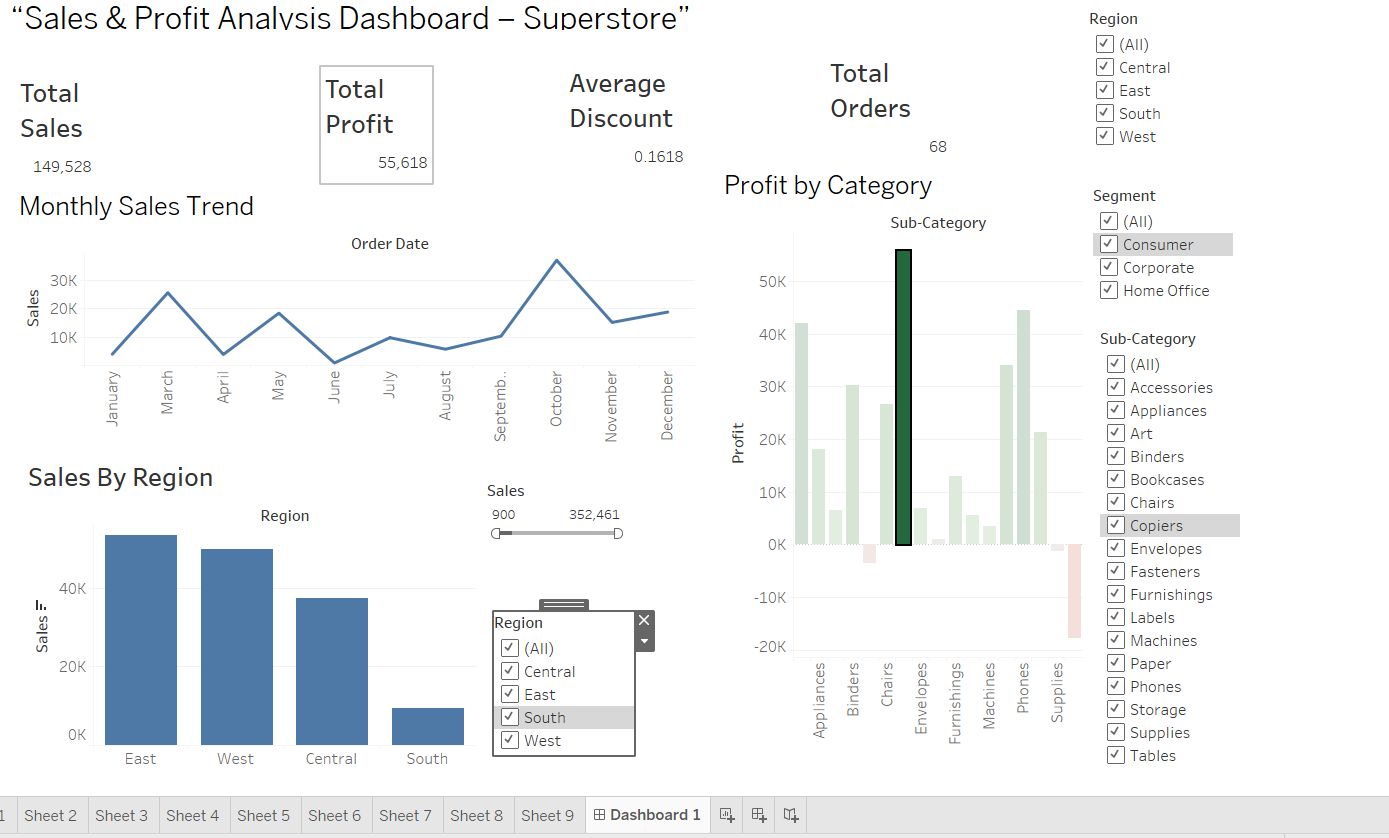

The dashboard page shown, as its layout file describes it:
{"tool":"tableau","page":{"name":"Dashboard 1","canvas":[1000,1000],"units":"permille","ordinal":0},"visuals":[{"type":"title","box":[5.5,10,989,39.9]},{"type":"filter","title":"Sheet 5","param":"[federated.04pyzly0xpd7ff17e41631brcbwb].[none:Region:nk]","box":[754.5,17.5,110.3,178.3]},{"type":"worksheet","title":"Sheet 3","mark":"Automatic","box":[573.1,71.1,86.9,179.6]},{"type":"worksheet","title":"Sheet 4","mark":"Automatic","box":[393.1,83.5,84.8,134.7]},{"type":"worksheet","title":"Sheet 2","mark":"Automatic","box":[224.8,91,76.5,144.6]},{"type":"worksheet","title":"Sheet 1","mark":"Automatic","box":[14.5,96,213.1,132.2]},{"type":"worksheet","title":"Sheet 6","mark":"Automatic","rows":["Profit"],"cols":["Sub-Category"],"box":[500,213.2,250.3,738.1]},{"type":"filter","title":"Sheet 7","param":"[federated.04pyzly0xpd7ff17e41631brcbwb].[none:Segment:nk]","box":[757.2,238.2,96.5,149.6]},{"type":"worksheet","title":"Sheet 7","mark":"Automatic","rows":["Sales"],"cols":["Order Date"],"box":[13.8,239.4,469,322.9]},{"type":"filter","title":"Sheet 6","param":"[federated.04pyzly0xpd7ff17e41631brcbwb].[none:Sub-Category:nk]","box":[761.8,416.5,97,551.1]},{"type":"worksheet","title":"Sheet 5","mark":"Automatic","rows":["Sales"],"cols":["Region"],"box":[20,574.8,311.7,392.8]},{"type":"filter","title":"Sheet 7","param":"[federated.04pyzly0xpd7ff17e41631brcbwb].[sum:Sales:qk]","box":[339.3,606,96.5,81]},{"type":"filter","title":"Sheet 7","param":"[federated.04pyzly0xpd7ff17e41631brcbwb].[none:Region:nk]","box":[344.1,770.6,96.5,178.3]}]}

Visuals, with their boxes on the dashboard's canvas, which has no fixed pixel size, in thousandths of its width and height (x1, y1, x2, y2). These are canvas units, not pixel positions in the 1389x838 screenshot, which may show the page scaled, cropped or inside an application window:
title: 6/10/994/50
"Sheet 5" filter: 754/18/865/196
"Sheet 3" worksheet: 573/71/660/251
"Sheet 4" worksheet: 393/84/478/218
"Sheet 2" worksheet: 225/91/301/236
"Sheet 1" worksheet: 14/96/228/228
"Sheet 6" worksheet: 500/213/750/951
"Sheet 7" filter: 757/238/854/388
"Sheet 7" worksheet: 14/239/483/562
"Sheet 6" filter: 762/416/859/968
"Sheet 5" worksheet: 20/575/332/968
"Sheet 7" filter: 339/606/436/687
"Sheet 7" filter: 344/771/441/949
